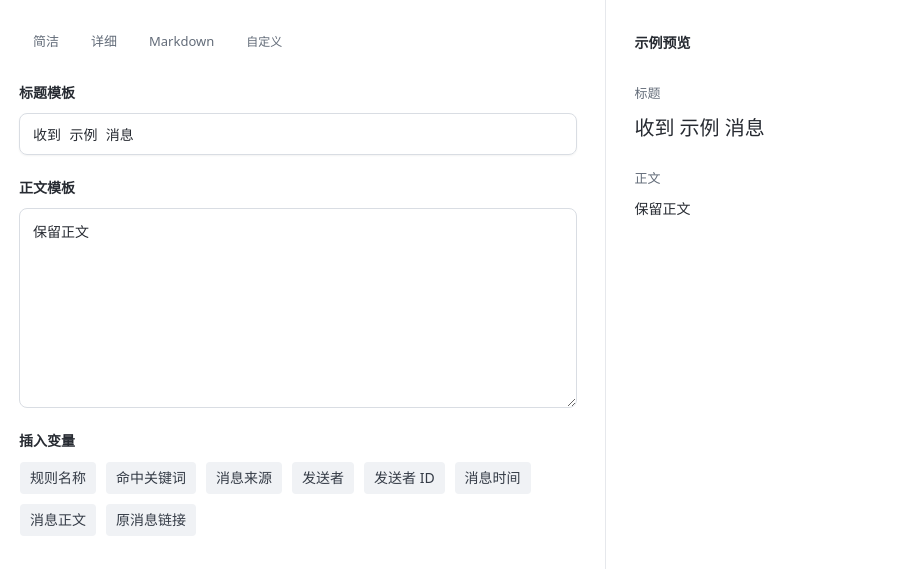
Test case: ForwardFormatEditor › replaces a title selection and leaves the caret ready for continued insertion
Click the field labelled "标题模板" at [298, 134], box [19,113,577,155]
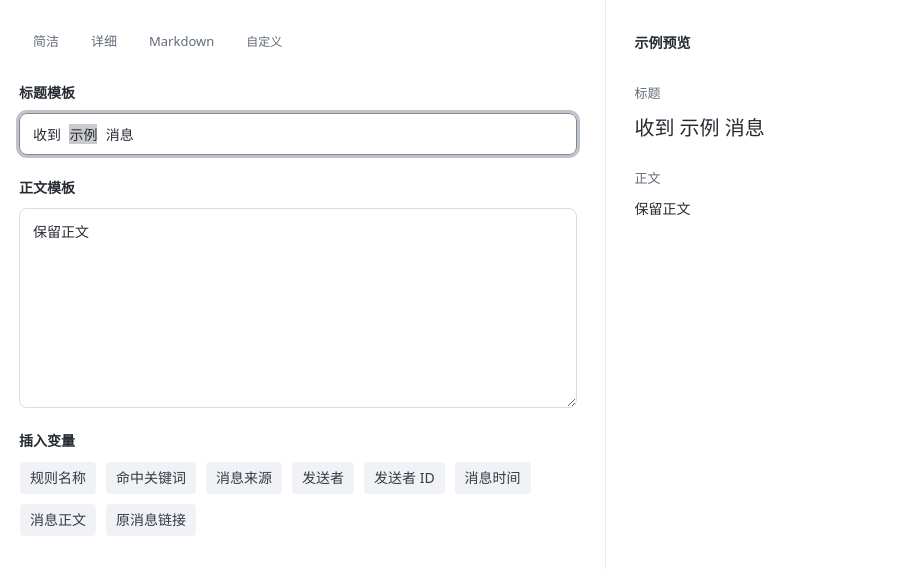
Click the button "规则名称" at [58, 478], box [19,461,97,495]
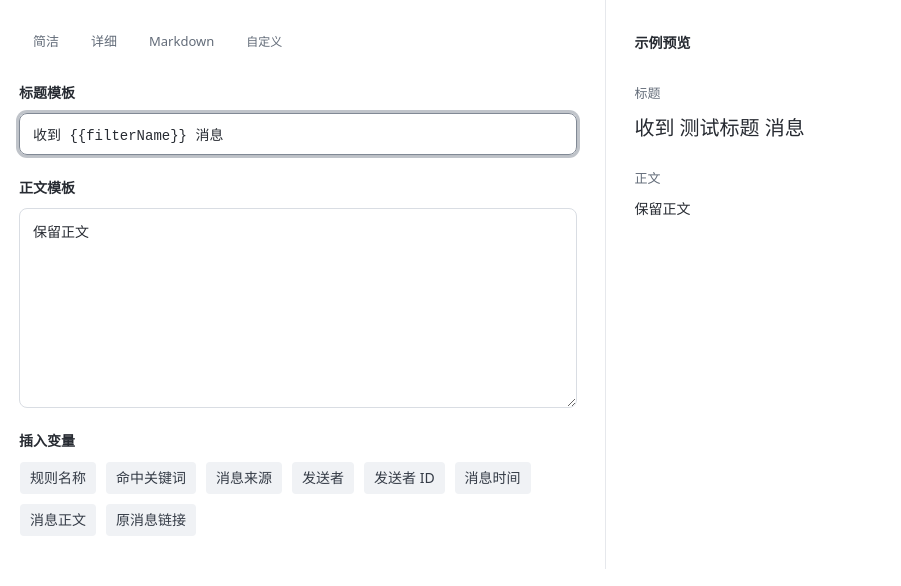
expect the text box labelled "正文模板" holds "保留正文": met, box [19,208,577,408]
expect the field labelled "标题模板" holds "收到 {{filterName}} 消息": met, box [19,113,577,155]
Click the button "消息来源" at [244, 478], box [205,461,283,495]
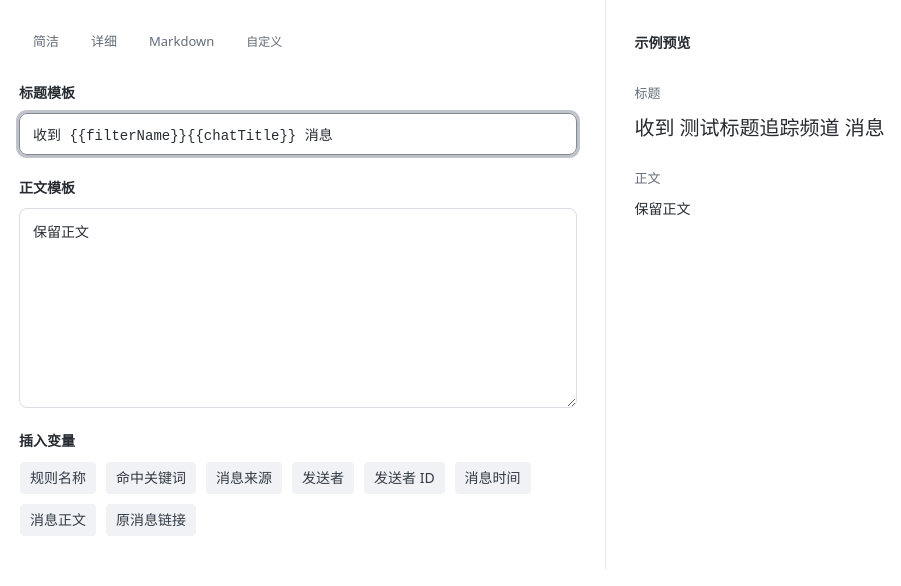
expect the field labelled "标题模板" holds "收到 {{filterName}}{{chatTitle}} 消息": met, box [19,113,577,155]
